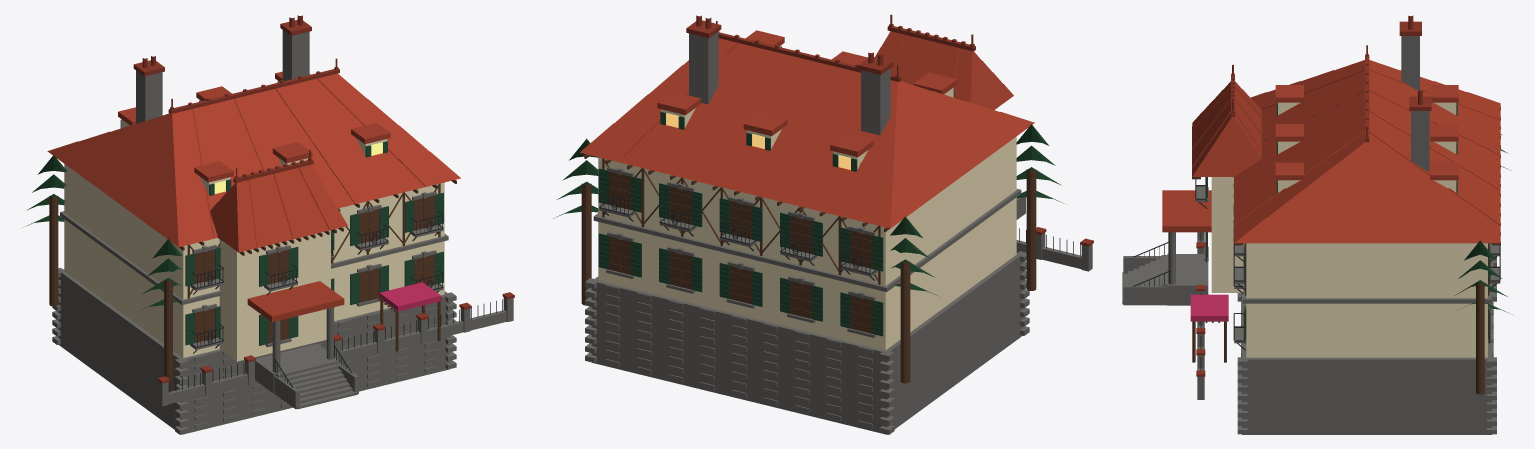
The model's file is fv_thd_04_villa_16b_violet.glb.
The picture shows the model from 3 angles, left to right: view 1: azimuth 30°, elevation 25°; view 2: azimuth 150°, elevation 25°; view 3: azimuth 270°, elevation 25°; orthographic projection. The views are drawn at different scales.
Parts seen in each view (by area): view 1: marseille_corrugated_roof_tiles, granite_foundation_and_stairs, stucco_facade_and_dormers, colombage_timber_and_eaves, pine_green_louvered_shutters, ridge_cresting_and_chimneys, wrought_iron_balconies_3d, pine_trees_and_garden_hedges, bougainvillea_pergola_clusters; view 2: marseille_corrugated_roof_tiles, granite_foundation_and_stairs, stucco_facade_and_dormers, colombage_timber_and_eaves, pine_green_louvered_shutters, ridge_cresting_and_chimneys, pine_trees_and_garden_hedges, wrought_iron_balconies_3d; view 3: marseille_corrugated_roof_tiles, granite_foundation_and_stairs, stucco_facade_and_dormers, colombage_timber_and_eaves, ridge_cresting_and_chimneys, bougainvillea_pergola_clusters, wrought_iron_balconies_3d, pine_trees_and_garden_hedges, pine_green_louvered_shutters.
Boxes of the visible parts, box(x1,y1,x2,y2) form: marseille_corrugated_roof_tiles: box(47, 71, 460, 322); granite_foundation_and_stairs: box(52, 30, 513, 434); stucco_facade_and_dormers: box(64, 81, 444, 361); colombage_timber_and_eaves: box(49, 180, 456, 390); pine_green_louvered_shutters: box(120, 81, 443, 345); ridge_cresting_and_chimneys: box(133, 15, 514, 383); wrought_iron_balconies_3d: box(169, 211, 502, 392); pine_trees_and_garden_hedges: box(23, 155, 182, 310); bougainvillea_pergola_clusters: box(379, 282, 441, 311); marseille_corrugated_roof_tiles: box(580, 30, 1034, 228); granite_foundation_and_stairs: box(585, 31, 1092, 434); stucco_facade_and_dormers: box(598, 45, 1016, 350); colombage_timber_and_eaves: box(581, 154, 1036, 383); pine_green_louvered_shutters: box(598, 46, 954, 336); ridge_cresting_and_chimneys: box(686, 14, 1093, 246); pine_trees_and_garden_hedges: box(553, 124, 1064, 295); wrought_iron_balconies_3d: box(599, 188, 1080, 280); marseille_corrugated_roof_tiles: box(1162, 60, 1500, 243); granite_foundation_and_stairs: box(1122, 36, 1500, 434); stucco_facade_and_dormers: box(1211, 102, 1487, 357); colombage_timber_and_eaves: box(1192, 107, 1500, 394); ridge_cresting_and_chimneys: box(1196, 15, 1431, 376); bougainvillea_pergola_clusters: box(1190, 294, 1228, 321); wrought_iron_balconies_3d: box(1132, 179, 1500, 370); pine_trees_and_garden_hedges: box(1454, 134, 1512, 314); pine_green_louvered_shutters: box(1205, 102, 1490, 343).
Bounding box in the file's own units: 24 × 19.53 × 22.74.
